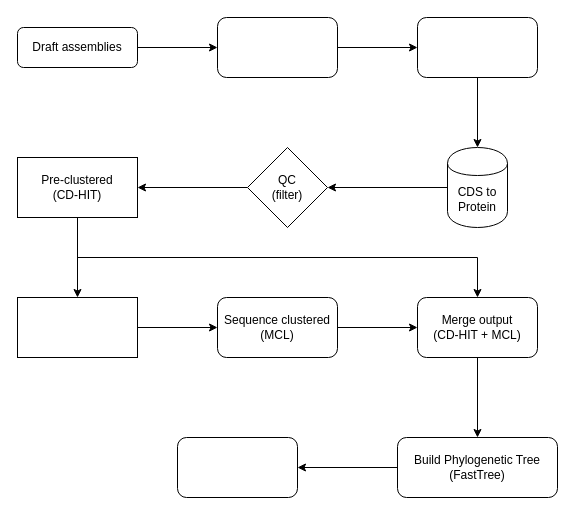
Image size: 575x515. Some labels were removed from this diagram. The shapes that lost their labels are listed below. From the top down, each one's box as (x1, y1, x2, y2) in pixels, then its label:
(216, 16, 338, 78): Genome Annotation (Prokka)
(416, 16, 538, 78): Input file (.GFF3)
(16, 296, 138, 358): All-against-all comp. (BLASTP, SI 95%)
(176, 436, 298, 498): Data Visualization (roary_plot.py)
